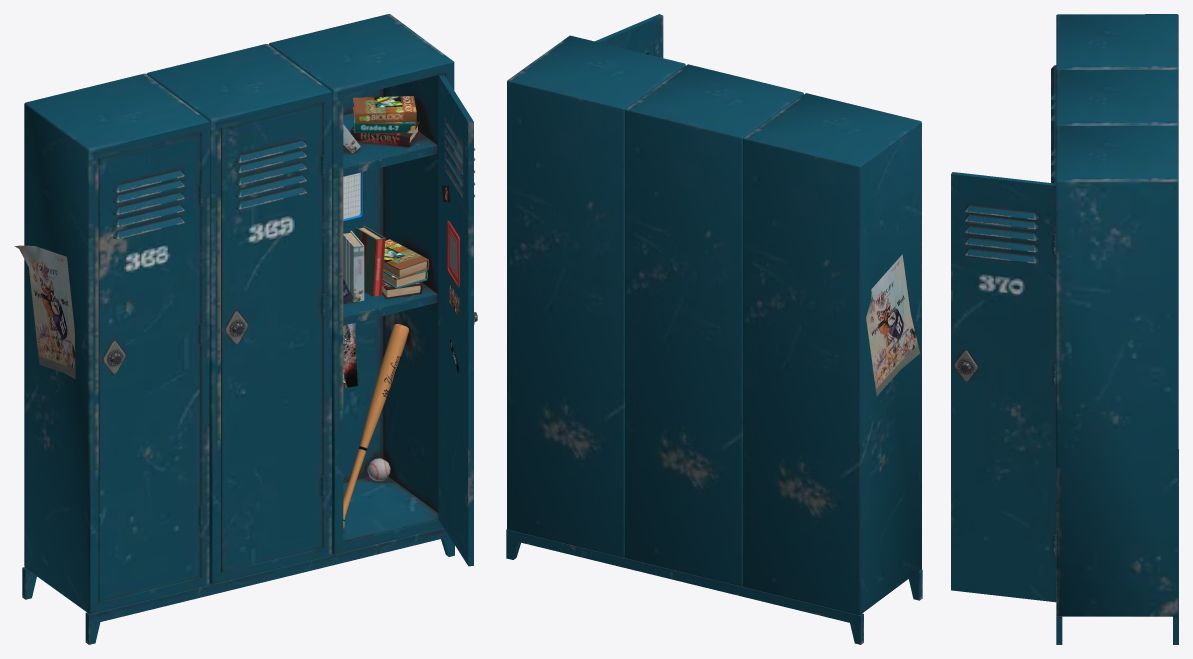
The model's file is locker.glb.
3 views of the same model, side by side, from view 1: azimuth 30°, elevation 25°; view 2: azimuth 150°, elevation 25°; view 3: azimuth 270°, elevation 25° (orthographic). The views are drawn at different scales.
Visible parts, largest first — view 1: Box001, Cylinder002; view 2: Box001, Cylinder002; view 3: Box001.
Part boxes in pixels (left/top/right/bottom): Box001: left=22, top=14, right=477, bottom=644; Cylinder002: left=14, top=96, right=459, bottom=528; Box001: left=506, top=14, right=922, bottom=644; Cylinder002: left=866, top=254, right=920, bottom=396; Box001: left=951, top=14, right=1178, bottom=644.
Bounding box in the file's own units: 1.6 × 2 × 0.8905.
Materials: 2 (2 with a texture image).
